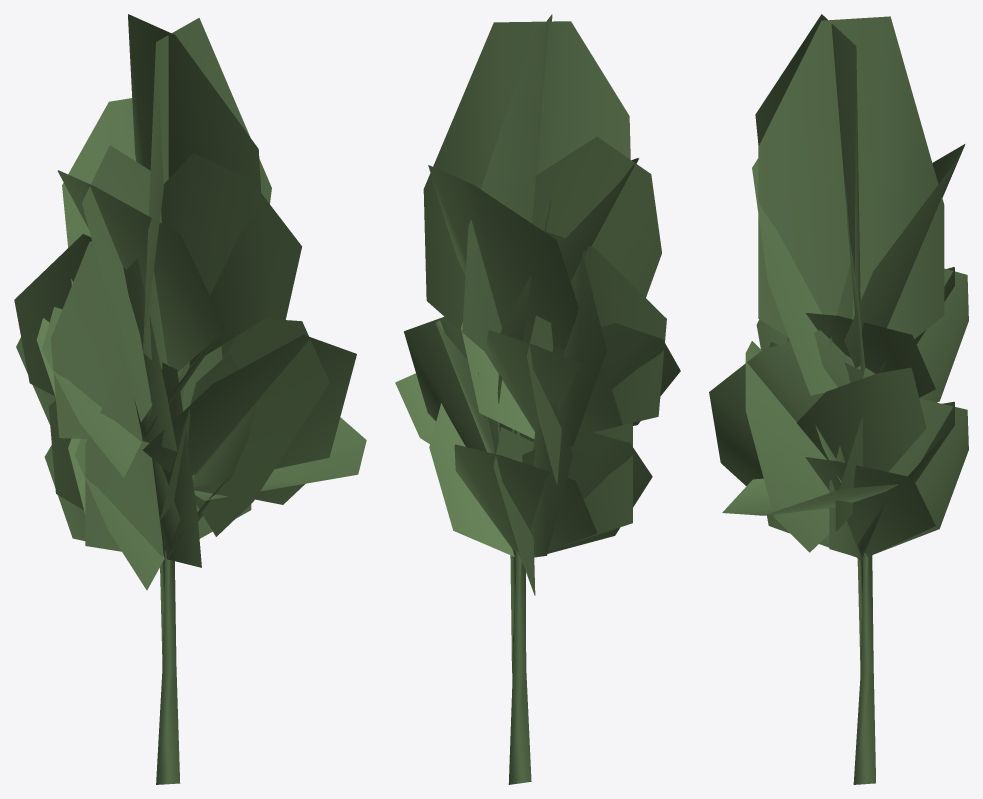
File: Tree_Distant.fbx
3 renders of one model, left to right at view 1: azimuth 30°, elevation 25°; view 2: azimuth 150°, elevation 25°; view 3: azimuth 270°, elevation 25°, orthographic.
Visible parts, largest first — view 1: Tree_Distant; view 2: Tree_Distant; view 3: Tree_Distant.
Part boxes in pixels (<box>): Tree_Distant: <box>14,14,366,784</box>; Tree_Distant: <box>395,14,680,784</box>; Tree_Distant: <box>709,14,968,784</box>.
Size of the model in its own units: 421 by 1081 by 337.
